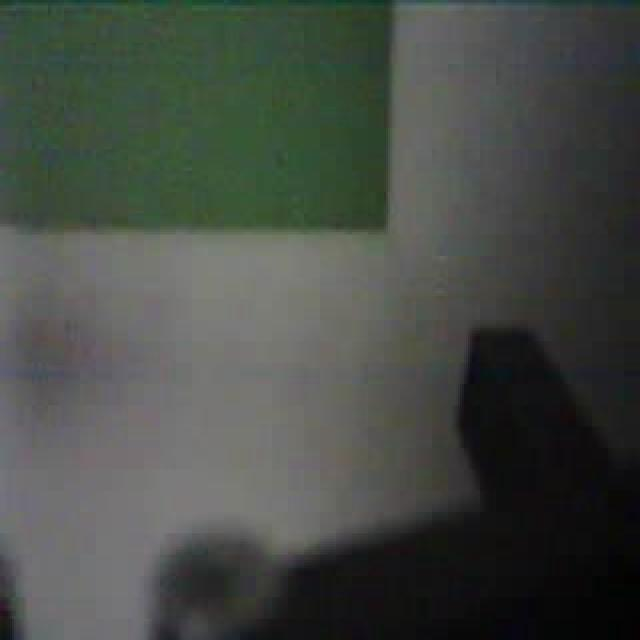green_box: (0, 0, 394, 237)
